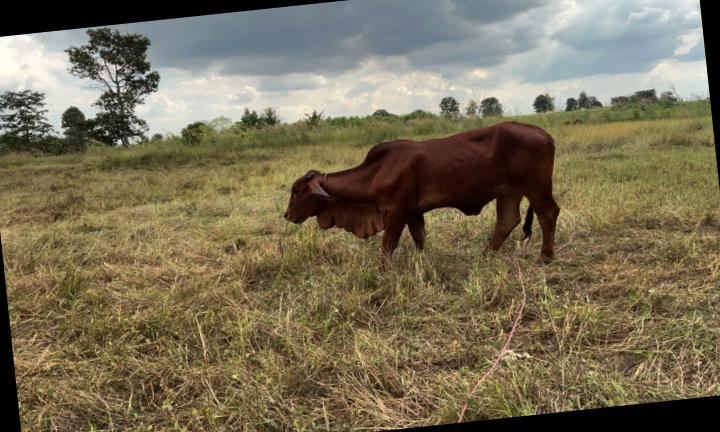Brahman: (284, 122, 559, 255)
